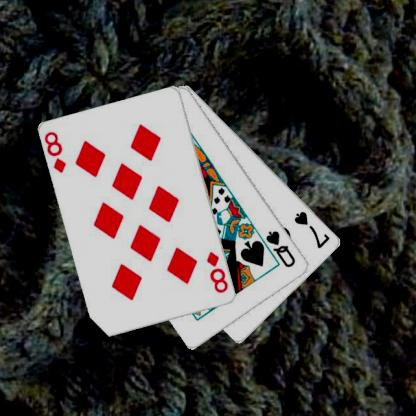7S: (291, 208, 332, 250)
8D: (204, 249, 230, 295), (42, 129, 68, 175)
QS: (263, 228, 297, 269)
